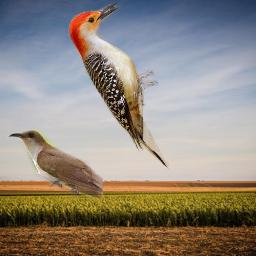Cuckoo: (6, 130, 103, 201)
Woodpecker: (68, 2, 169, 171)
